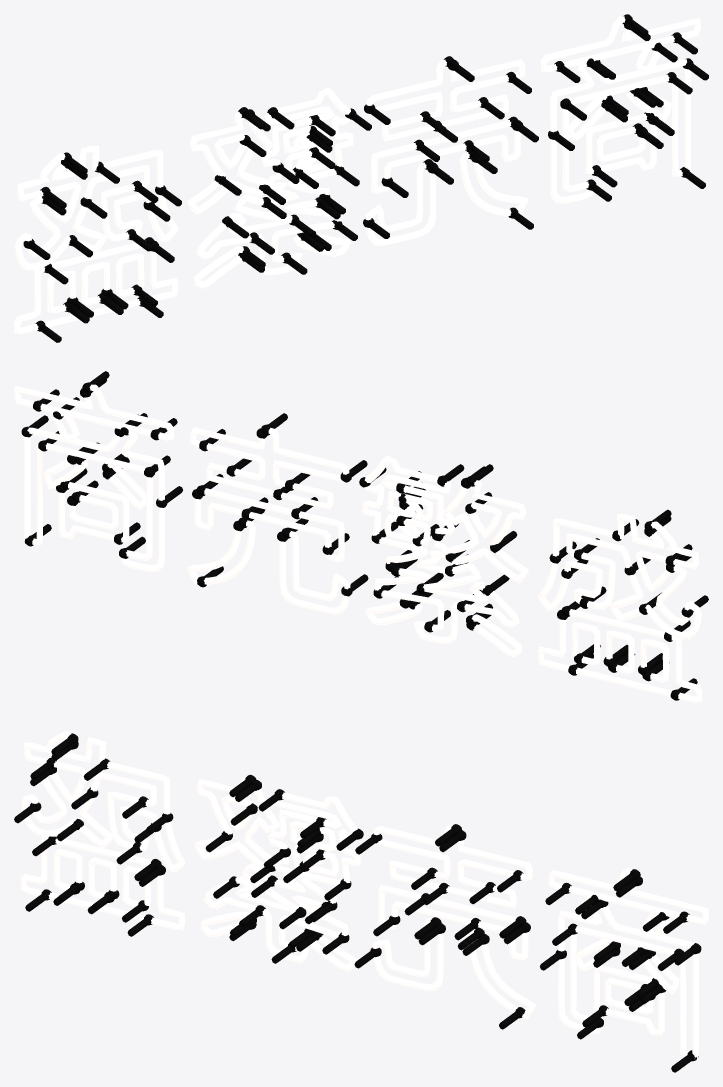
File: neon_syoubaihanzyou.fbx
3 views of the same model, one above another, from view 1: azimuth 30°, elevation 25°; view 2: azimuth 150°, elevation 25°; view 3: azimuth 330°, elevation 25° (orthographic).
Visible parts, largest first — view 1: NeonEnglish; view 2: NeonEnglish; view 3: NeonEnglish.
Boxes of the visible parts, x1,y1,x2,y2 form: NeonEnglish: (14, 14, 708, 342); NeonEnglish: (14, 371, 708, 702); NeonEnglish: (14, 731, 708, 1072).
Size of the model in its own units: 406 by 101 by 21.29.
